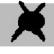not correct: (7, 0, 50, 46)
